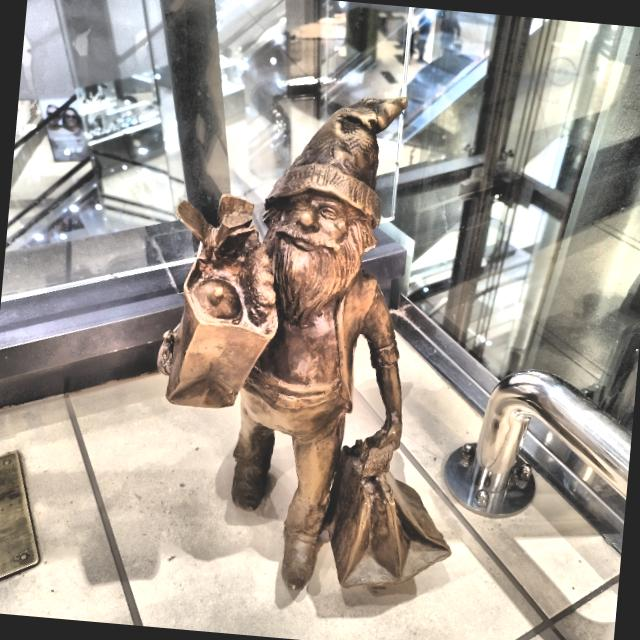Trendus: (156, 99, 451, 610)
